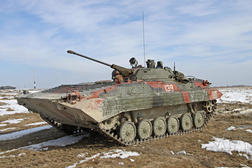bmp: (13, 49, 222, 147)
